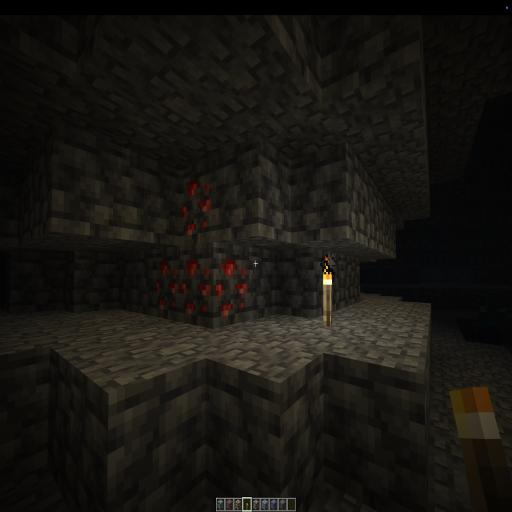redstone ore: (150, 174, 249, 324)
